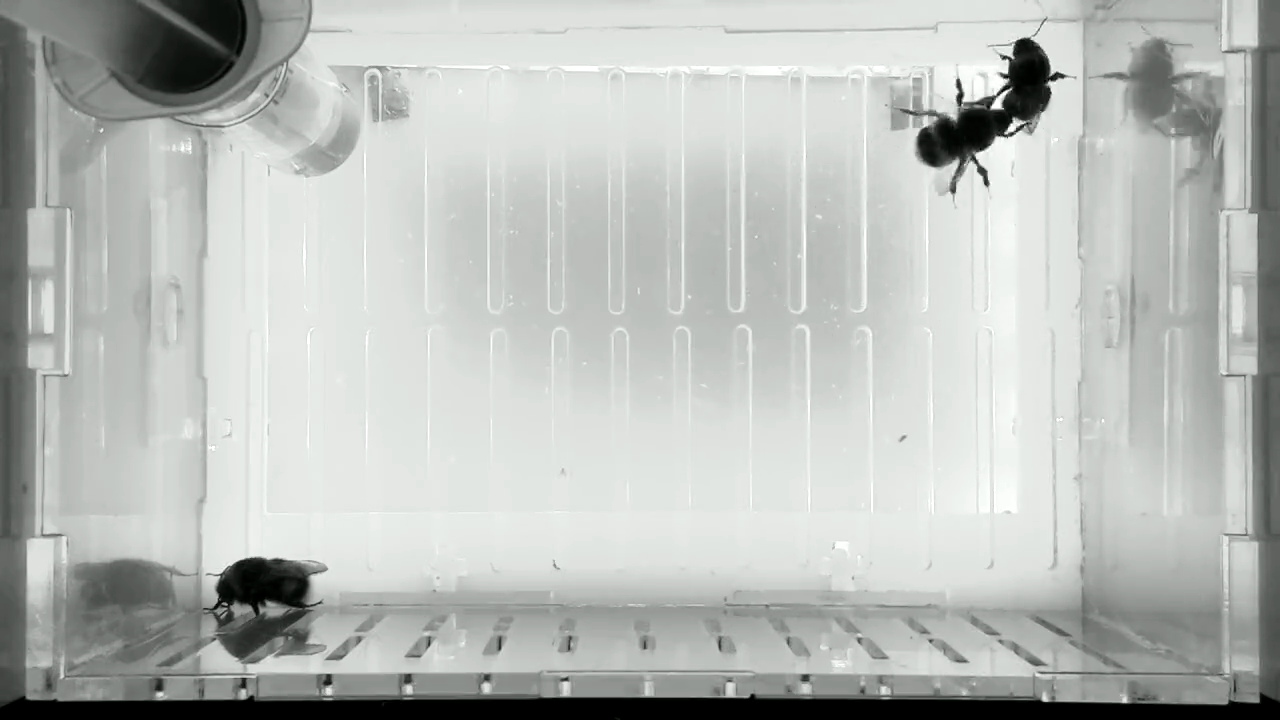bee_alive: (885, 61, 1022, 208), (982, 15, 1083, 137), (203, 551, 334, 620)
feeder: (204, 37, 370, 183)
